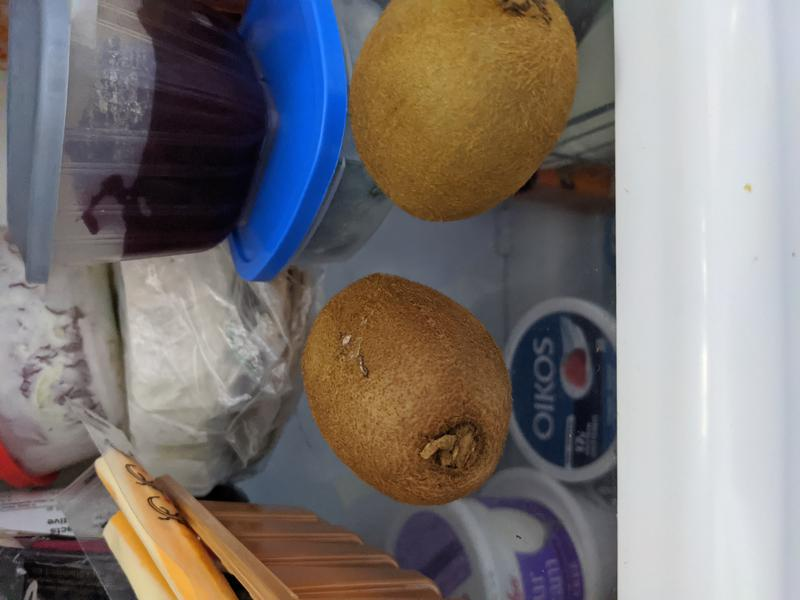kiwi: (346, 2, 581, 222), (298, 272, 514, 507)
